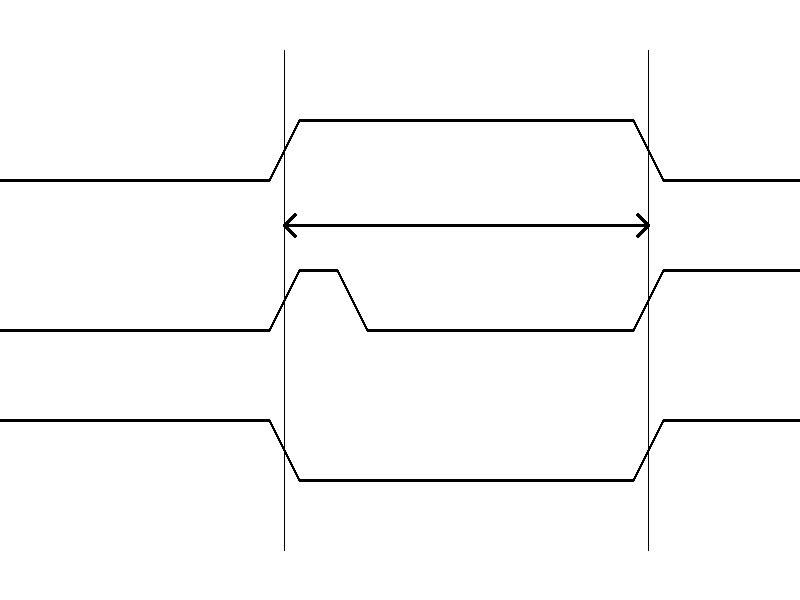double_arrow: (284, 210, 648, 240)
